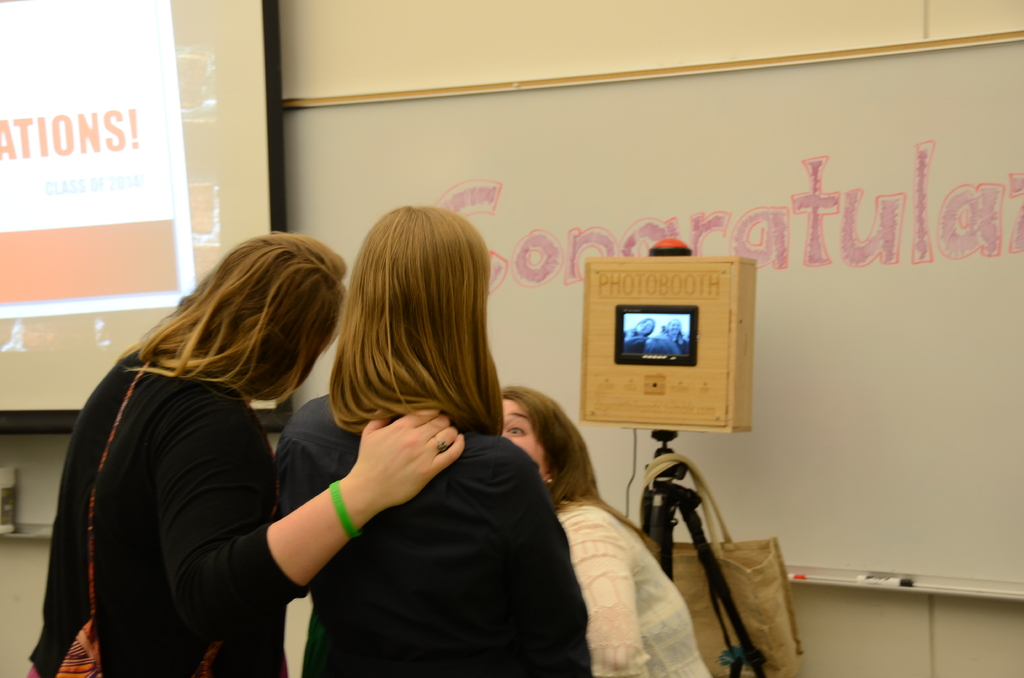Human-face: (499, 399, 548, 479)
